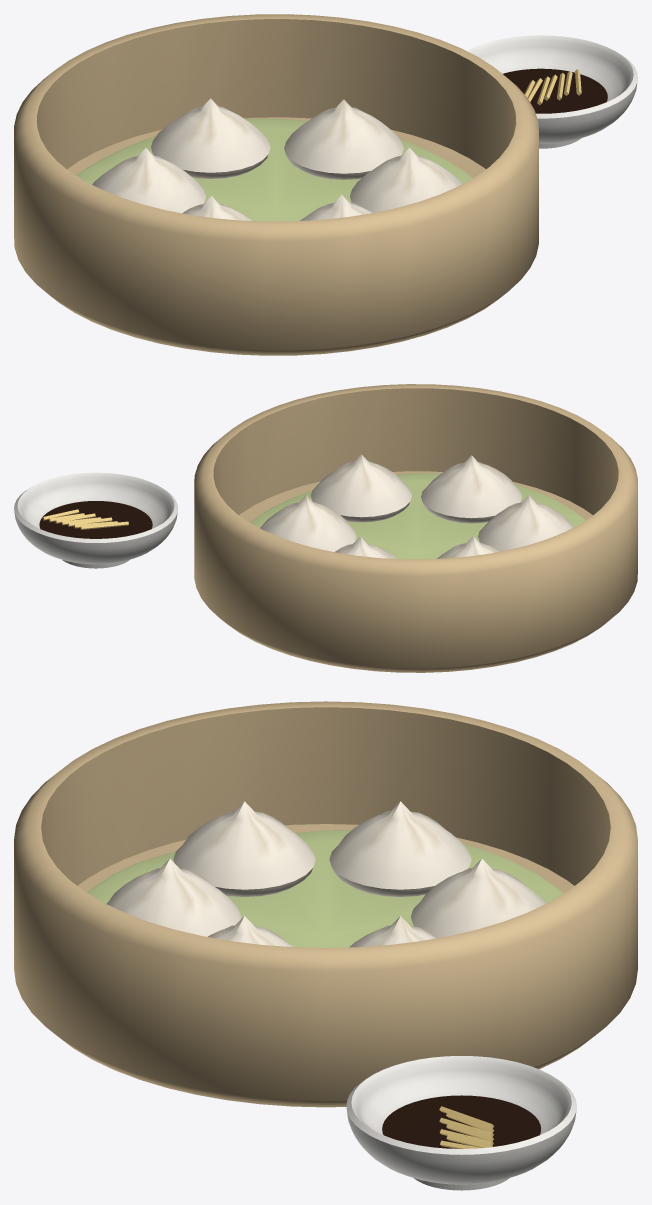
The model's file is dish-xiaolongbao-lod0.glb.
3 views of the same model, one above another, from view 1: azimuth 30°, elevation 25°; view 2: azimuth 150°, elevation 25°; view 3: azimuth 270°, elevation 25° (orthographic). The views are drawn at different scales.
Visible parts, largest first — view 1: xiaolongbao.lod0__steamer bamboo, xiaolongbao.lod0__food glaze, xiaolongbao.lod0__food, xiaolongbao.lod0__table porcelain; view 2: xiaolongbao.lod0__steamer bamboo, xiaolongbao.lod0__food glaze, xiaolongbao.lod0__table porcelain, xiaolongbao.lod0__food; view 3: xiaolongbao.lod0__steamer bamboo, xiaolongbao.lod0__food glaze, xiaolongbao.lod0__table porcelain, xiaolongbao.lod0__food.
Boxes of the visible parts, left/top/right/bottom form: xiaolongbao.lod0__steamer bamboo: left=14, top=14, right=538, bottom=355; xiaolongbao.lod0__food glaze: left=92, top=68, right=607, bottom=220; xiaolongbao.lod0__food: left=76, top=69, right=581, bottom=221; xiaolongbao.lod0__table porcelain: left=467, top=35, right=637, bottom=148; xiaolongbao.lod0__steamer bamboo: left=194, top=384, right=637, bottom=672; xiaolongbao.lod0__food glaze: left=39, top=454, right=573, bottom=558; xiaolongbao.lod0__table porcelain: left=14, top=472, right=177, bottom=568; xiaolongbao.lod0__food: left=42, top=473, right=585, bottom=559; xiaolongbao.lod0__steamer bamboo: left=14, top=701, right=637, bottom=1107; xiaolongbao.lod0__food glaze: left=106, top=801, right=546, bottom=1148; xiaolongbao.lod0__table porcelain: left=346, top=1056, right=576, bottom=1190; xiaolongbao.lod0__food: left=87, top=830, right=563, bottom=1148.
Size of the model in its own units: 0.256 by 0.05 by 0.184.
